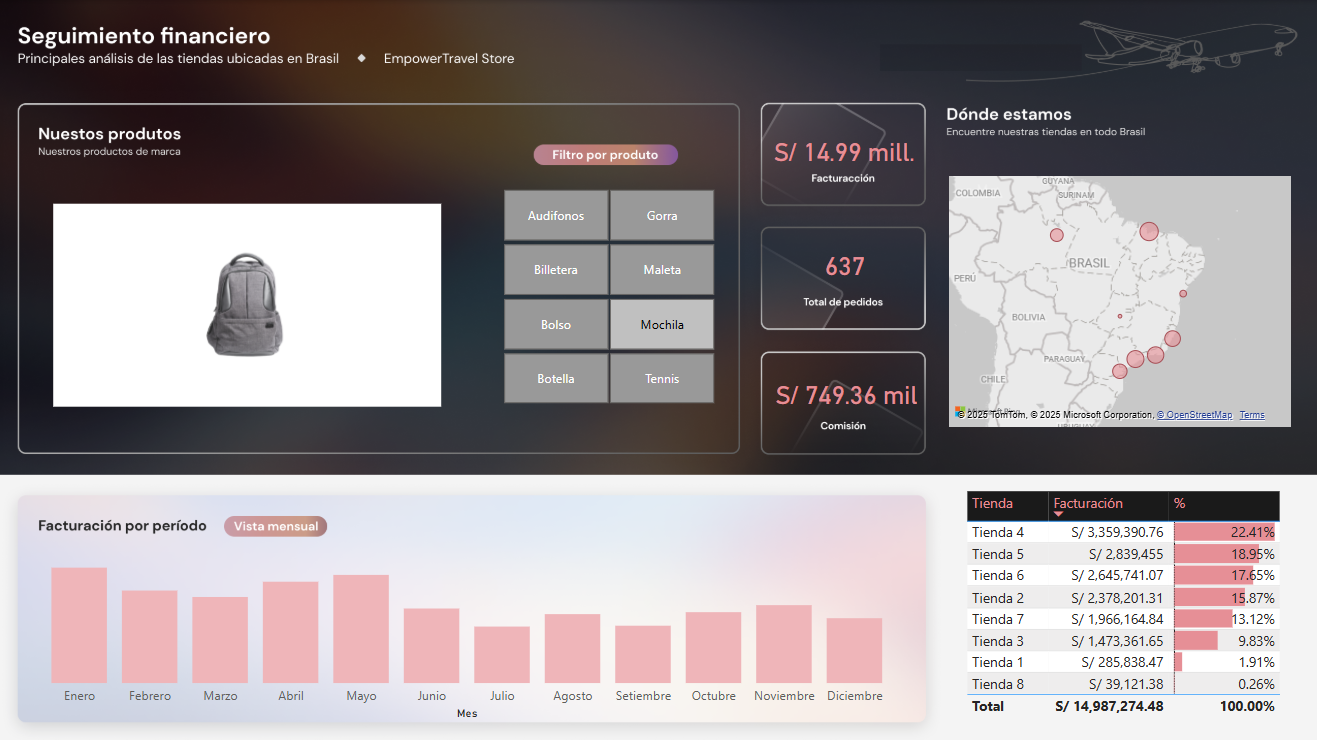

This screenshot's page, from the dashboard's own definition file:
{"tool":"powerbi","page":{"name":"Página 1","canvas":[1280,720],"ordinal":0},"visuals":[{"type":"card","fields":{"Values":["RegistroVentas.Facturacion_total"]},"box":[735.5,116.6,168.8,60.4],"z":0},{"type":"card","fields":{"Values":["RegistroVentas.cantidad_pedidos"]},"box":[752,215.4,138.6,83.7],"z":1000},{"type":"card","fields":{"Values":["RegistroVentas.Comision"]},"box":[738.3,315.6,168.8,131.7],"z":2000},{"type":"slicer","fields":{"Values":["Productos.descripción_producto"]},"box":[465.2,177,253.9,220.9],"z":3000},{"type":"columnChart","fields":{"Y":["Sum(RegistroVentas.Facturacion)"],"Category":["RegistroVentas.Fecha_ Pedido.Variación.Jerarquía de fechas.Mes"]},"box":[20.6,521.4,870,179.8],"z":4000},{"type":"tableEx","fields":{"Values":["Tiendas.nombre_Tienda","RegistroVentas.Facturacion_total","Divide(RegistroVentas.Facturacion_total, ScopedEval(RegistroVentas.Facturacion_total, []))"]},"box":[933.1,470.7,315.6,230.5],"z":5000},{"type":"map","fields":{"Category":["Tiendas.Nombre_Estado"],"Size":["RegistroVentas.Facturacion_total"]},"box":[918,166,340.3,252.5],"z":6000},{"type":"ImageGrid_FC5183B9_926C_45E0_B5F7_0CE9EAF1DA9B","fields":{"ImageURL":["Productos.img_url"]},"box":[49.4,192.1,385.6,205.8],"z":7000}]}

Visuals, with their boxes in screenshot pixels (x1, y1, x2, y2), scaled from the page's 1280x720 canvas onto the 1317x740 screenshot:
card - RegistroVentas.Facturacion_total: {"left": 757, "top": 120, "right": 930, "bottom": 182}
card - RegistroVentas.cantidad_pedidos: {"left": 774, "top": 221, "right": 916, "bottom": 307}
card - RegistroVentas.Comision: {"left": 760, "top": 324, "right": 933, "bottom": 460}
slicer - Productos.descripción_producto: {"left": 479, "top": 182, "right": 740, "bottom": 409}
columnChart - Sum(RegistroVentas.Facturacion) x RegistroVentas.Fecha_ Pedido.Variación.Jerarquía de fechas.Mes: {"left": 21, "top": 536, "right": 916, "bottom": 721}
tableEx - Tiendas.nombre_Tienda x RegistroVentas.Facturacion_total: {"left": 960, "top": 484, "right": 1285, "bottom": 721}
map - Tiendas.Nombre_Estado x RegistroVentas.Facturacion_total: {"left": 945, "top": 171, "right": 1295, "bottom": 430}
ImageGrid_FC5183B9_926C_45E0_B5F7_0CE9EAF1DA9B - Productos.img_url: {"left": 51, "top": 197, "right": 448, "bottom": 409}
